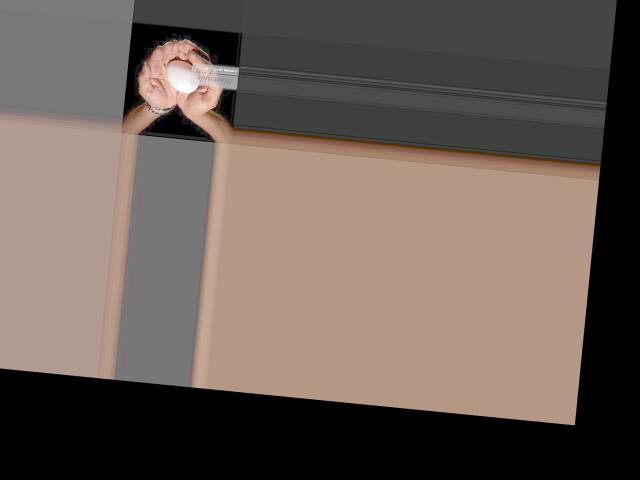egg: (164, 58, 199, 93)
